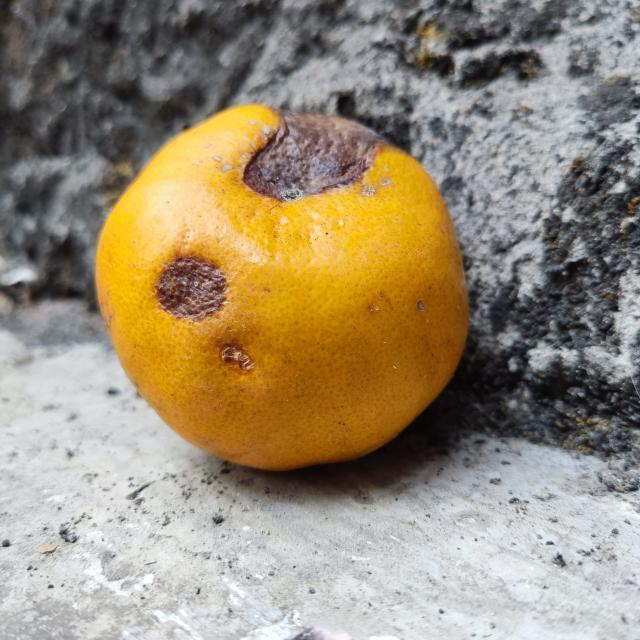orange: (95, 99, 471, 472)
